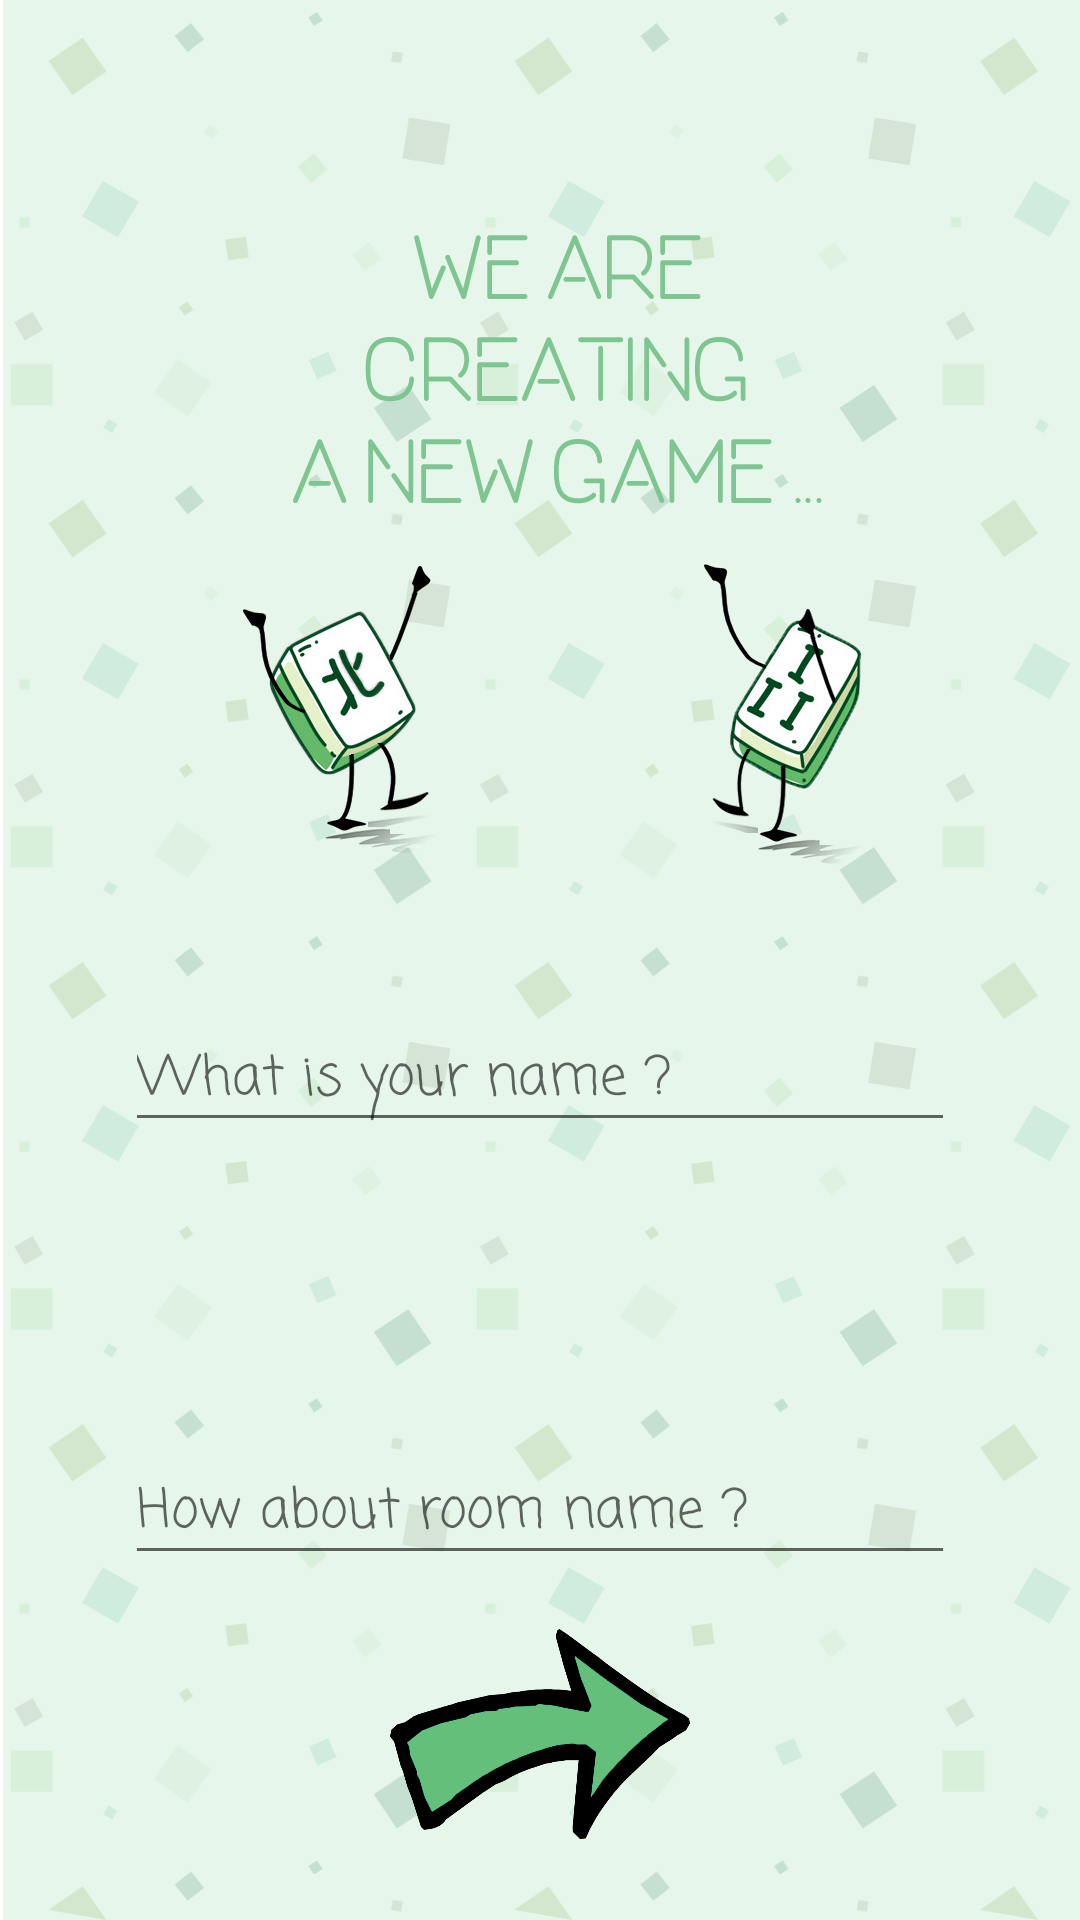

Icon click points for this 1080 × 1920 phone screenshot, format point (x, y):
arrow: point (540, 1734)
